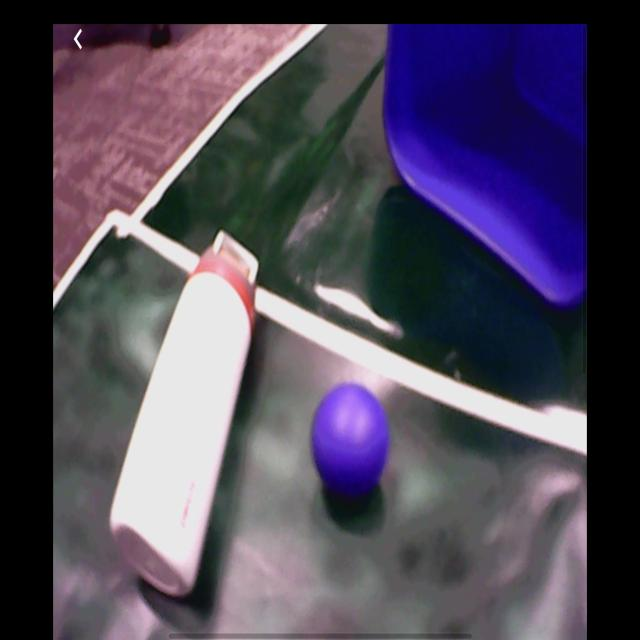ball: (313, 382, 388, 495)
